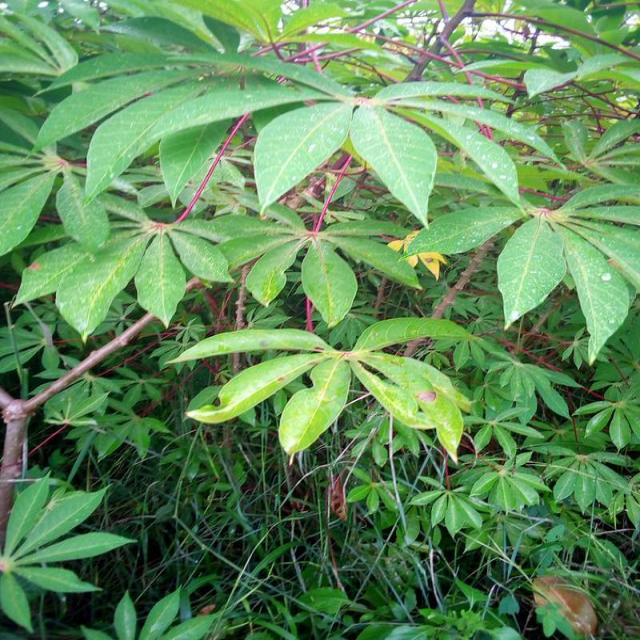cassava leaf: (252, 98, 353, 217), (348, 100, 438, 230)
